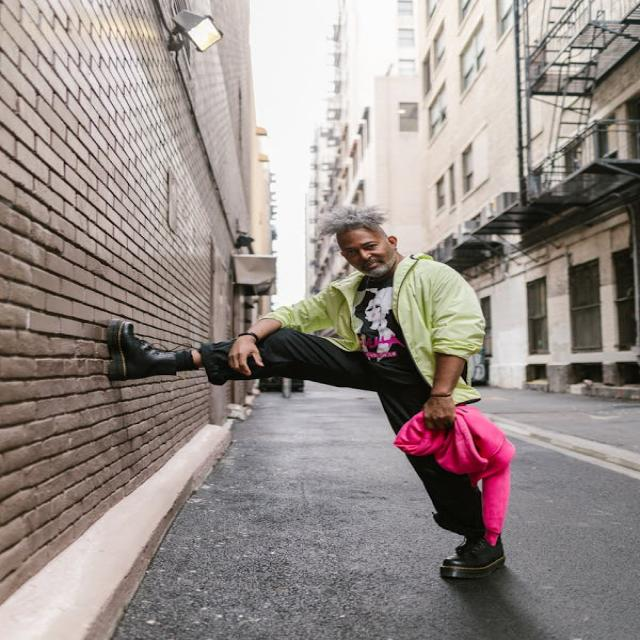Real human 2: (96, 195, 564, 610)
